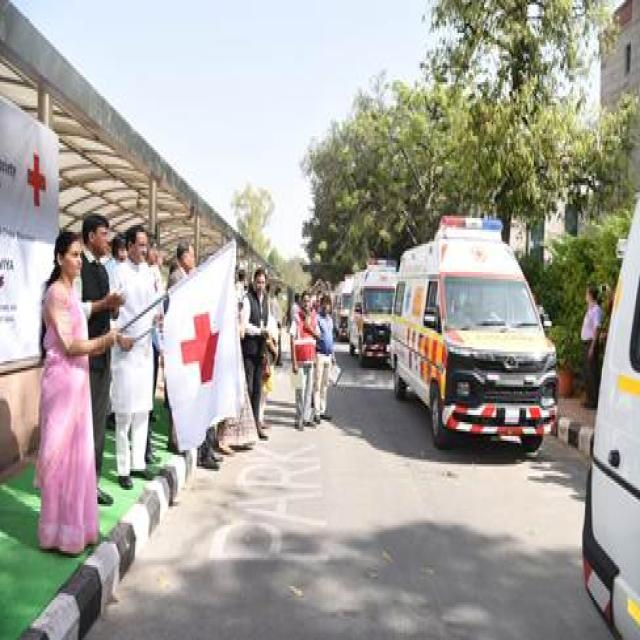emergency: (390, 217, 555, 451), (349, 261, 398, 363)
